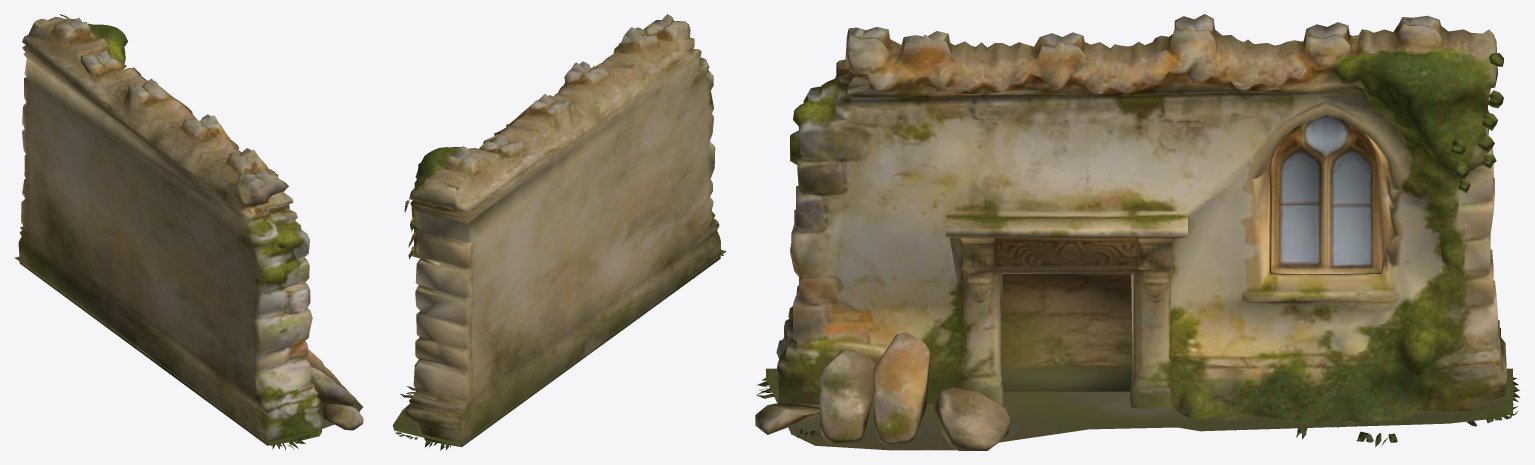
File: wyn_ruin_hall_wall.glb
3 renders of one model, left to right at view 1: azimuth 30°, elevation 25°; view 2: azimuth 150°, elevation 25°; view 3: azimuth 270°, elevation 25°, orthographic. The views are drawn at different scales.
Parts seen in each view (by area): view 1: tripo_node_fe861576-e95b-4d3c-92dc-35ce24211824; view 2: tripo_node_fe861576-e95b-4d3c-92dc-35ce24211824; view 3: tripo_node_fe861576-e95b-4d3c-92dc-35ce24211824.
Part boxes in pixels (x1,y1,x2,y2): tripo_node_fe861576-e95b-4d3c-92dc-35ce24211824: (14, 14, 363, 449); tripo_node_fe861576-e95b-4d3c-92dc-35ce24211824: (392, 14, 726, 450); tripo_node_fe861576-e95b-4d3c-92dc-35ce24211824: (755, 14, 1519, 450).
Bounding box in the file's own units: 1.85 × 4 × 7.33.
Materials: 1 (1 with a texture image).
